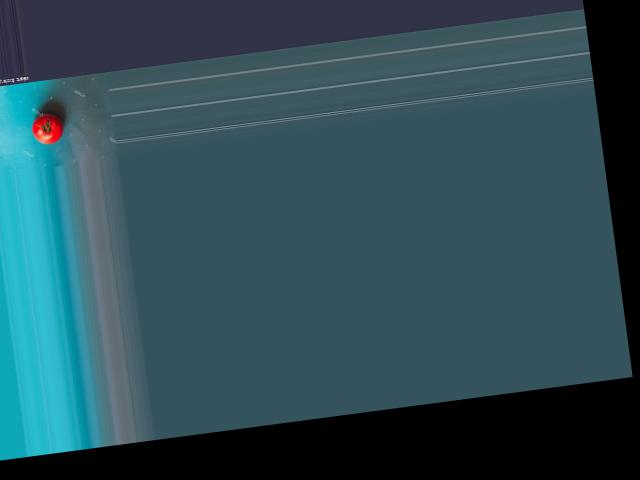tomato: (30, 111, 65, 145)
